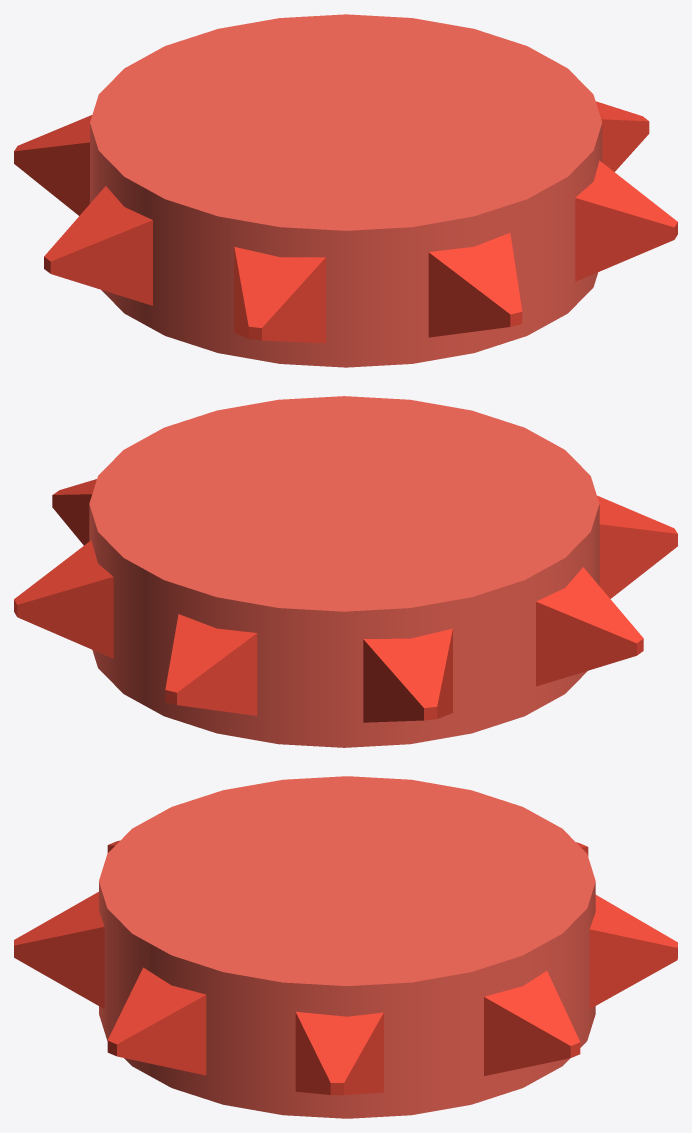
Rendered from Hockey Puck Peak Red.fbx.
3 views of the same model, one above another, from view 1: azimuth 30°, elevation 25°; view 2: azimuth 150°, elevation 25°; view 3: azimuth 270°, elevation 25° (orthographic). The views are drawn at different scales.
Parts seen in each view (by area): view 1: Hockey Puck Peak Red; view 2: Hockey Puck Peak Red; view 3: Hockey Puck Peak Red.
Part boxes in pixels (x1,y1,x2,y2): Hockey Puck Peak Red: (14,14,677,367); Hockey Puck Peak Red: (14,396,677,747); Hockey Puck Peak Red: (14,776,677,1118).
Size of the model in its own units: 0.5867 by 0.1293 by 0.5866.
